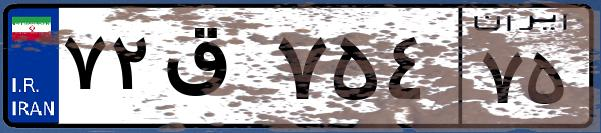2: (110, 28, 158, 98)
4: (385, 28, 445, 110)
5: (330, 28, 385, 110), (525, 38, 570, 115)
7: (270, 28, 330, 110), (57, 26, 110, 100), (475, 38, 525, 113)
ق: (158, 20, 270, 120)
